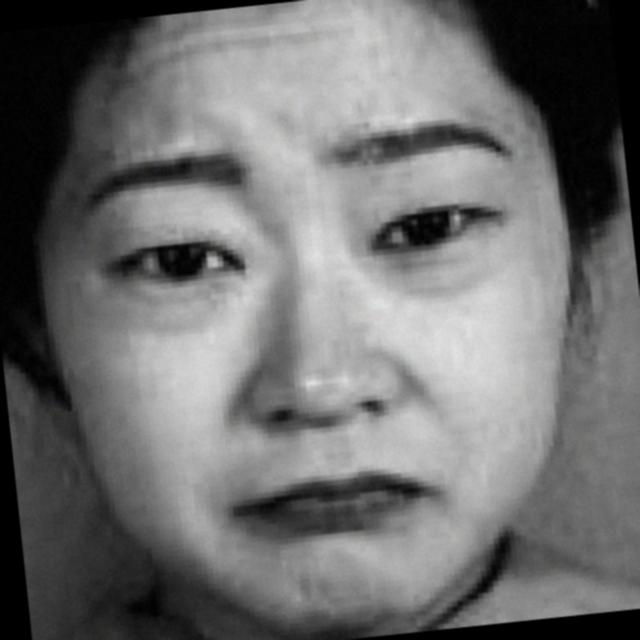sad: (56, 20, 602, 626)
